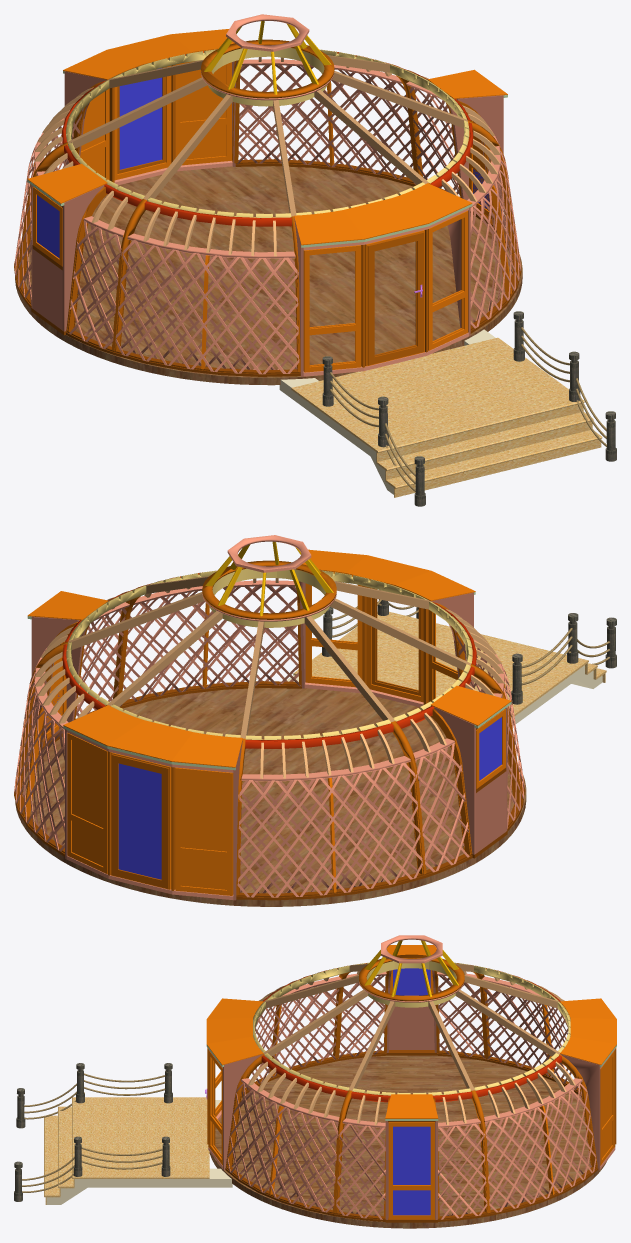
Rendered from tsomtsog-ger.glb.
The picture shows the model from 3 angles, top to bottom: view 1: azimuth 30°, elevation 25°; view 2: azimuth 150°, elevation 25°; view 3: azimuth 270°, elevation 25°; orthographic projection. The views are drawn at different scales.
Visible parts, largest first — view 1: floor, stairs, wall-left, roof, door, wall-right, back-door, left-window, wall-foundation, right-window; view 2: floor, back-door, wall-left, roof, wall-right, stairs, door, left-window, wall-foundation, right-window; view 3: floor, wall-right, stairs, roof, wall-left, right-window, back-door, door, left-window, wall-foundation.
Boxes of the visible parts, x1,y1,x2,y2 form: floor: (15, 166, 522, 385); stairs: (279, 311, 616, 506); wall-left: (14, 80, 300, 374); roof: (62, 14, 473, 226); door: (294, 183, 472, 376); wall-right: (120, 51, 520, 328); back-door: (63, 29, 237, 185); left-window: (27, 163, 107, 331); wall-foundation: (14, 159, 521, 376); right-window: (427, 69, 507, 226); floor: (15, 688, 526, 906); back-door: (63, 705, 242, 900); wall-left: (236, 601, 524, 897); roof: (62, 535, 476, 748); wall-right: (14, 573, 301, 851); stairs: (287, 599, 616, 725); door: (299, 549, 475, 707); left-window: (431, 685, 511, 854); wall-foundation: (14, 681, 524, 900); right-window: (27, 591, 107, 749); floor: (209, 1055, 606, 1228); wall-right: (226, 1014, 597, 1219); stairs: (14, 1063, 232, 1204); roof: (253, 935, 570, 1102); wall-left: (243, 963, 580, 1090); right-window: (339, 1094, 439, 1219); back-door: (560, 998, 616, 1170); door: (205, 998, 263, 1170); left-window: (384, 945, 439, 1052); wall-foundation: (225, 1050, 598, 1222).
Bounding box in the file's own units: 7.63 × 4.44 × 11.21.
19 materials, 5 textured.
